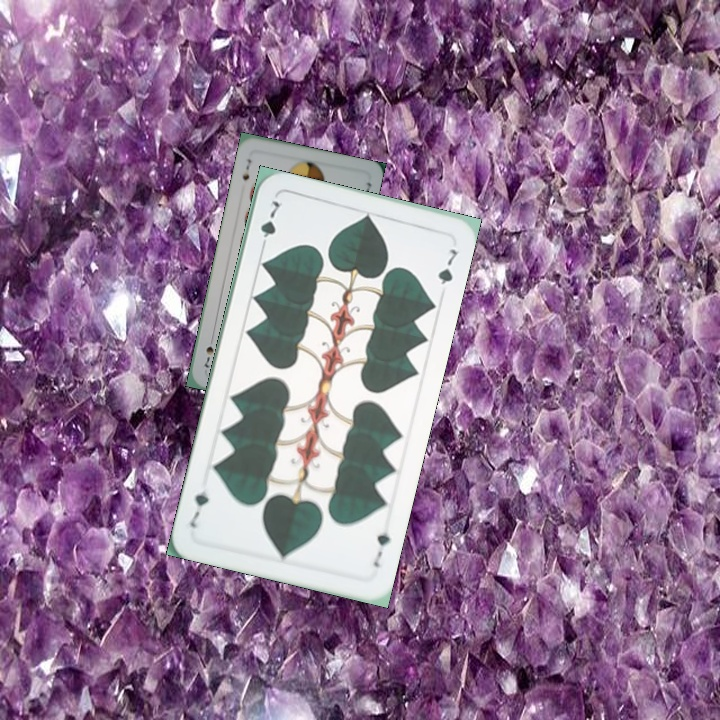G7: (256, 196, 283, 253), (369, 527, 393, 570)
S7: (238, 155, 254, 183)
